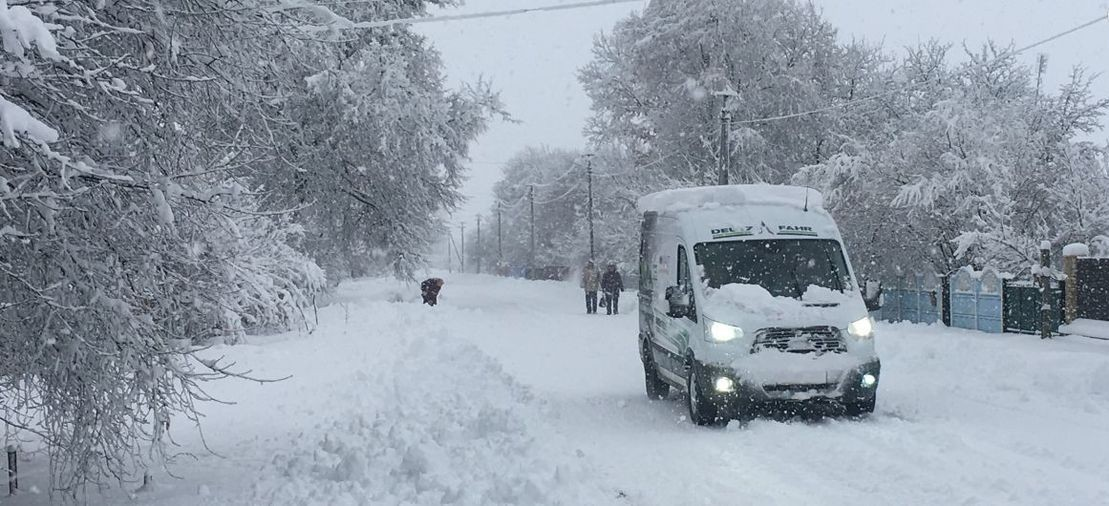car: (635, 194, 884, 421)
person: (601, 258, 623, 314), (580, 255, 598, 312), (420, 276, 445, 305)
